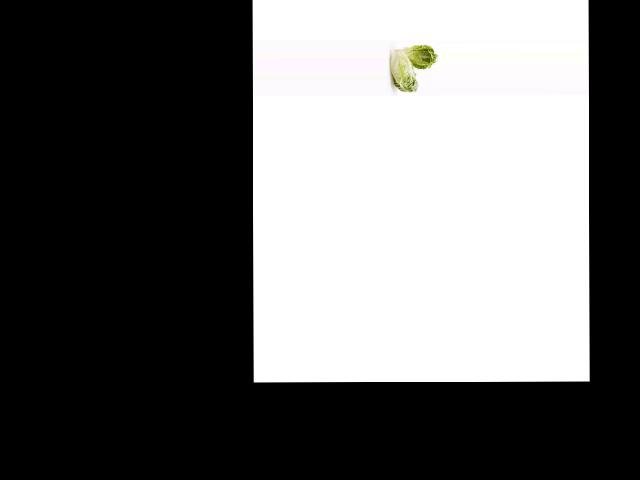lettuce: (388, 46, 420, 95)
